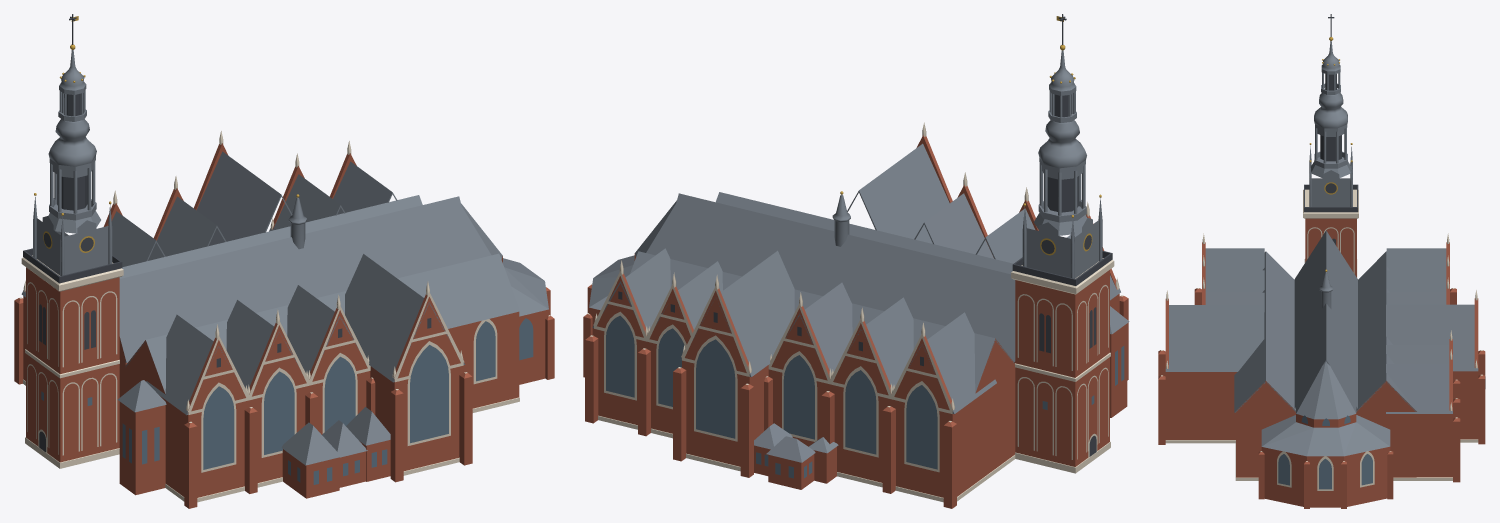
File: amsterdam-oude-kerk.glb
3 renders of one model, left to right at view 1: azimuth 30°, elevation 25°; view 2: azimuth 150°, elevation 25°; view 3: azimuth 270°, elevation 25°, orthographic. The views are drawn at different scales.
Visible parts, largest first — view 1: Oude Kerk; view 2: Oude Kerk; view 3: Oude Kerk.
Boxes of the visible parts, left/top/right/bottom form: Oude Kerk: left=14, top=14, right=554, bottom=508; Oude Kerk: left=583, top=14, right=1129, bottom=508; Oude Kerk: left=1158, top=14, right=1485, bottom=508.
Bounding box in the file's own units: 82.95 × 70 × 63.65.
